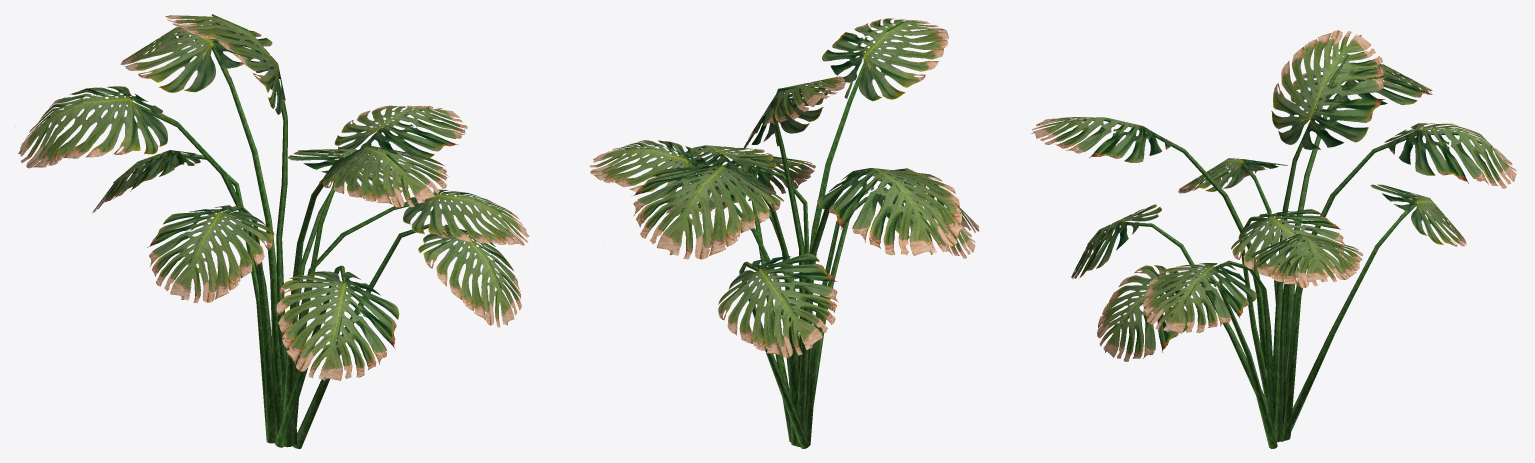
File: fan plant version 2.dae
3 views of the same model, side by side, from view 1: azimuth 30°, elevation 25°; view 2: azimuth 150°, elevation 25°; view 3: azimuth 270°, elevation 25° (orthographic). The views are drawn at different scales.
Visible parts, largest first — view 1: fan_plant_2_Form1, fan_plant_2_Group2_Group2_Form1, fan_plant_2_Shape0, fan_plant_2_Group2_Form1, fan_plant_2_Group2_Group2_Shape0, fan_plant_2_Group2_Shape0; view 2: fan_plant_2_Form1, fan_plant_2_Group2_Group2_Form1, fan_plant_2_Shape0, fan_plant_2_Group2_Group2_Shape0, fan_plant_2_Group2_Shape0, fan_plant_2_Group2_Form1; view 3: fan_plant_2_Form1, fan_plant_2_Group2_Group2_Form1, fan_plant_2_Shape0, fan_plant_2_Group2_Group2_Shape0, fan_plant_2_Group2_Form1.
Part boxes in pixels (box(x1,y1,x2,y2)): fan_plant_2_Form1: box(15, 15, 529, 245); fan_plant_2_Group2_Group2_Form1: box(92, 148, 521, 381); fan_plant_2_Shape0: box(47, 14, 500, 447); fan_plant_2_Group2_Form1: box(147, 205, 274, 303); fan_plant_2_Group2_Group2_Shape0: box(113, 149, 501, 448); fan_plant_2_Group2_Shape0: box(189, 205, 275, 443); fan_plant_2_Form1: box(590, 18, 961, 259); fan_plant_2_Group2_Group2_Form1: box(666, 153, 979, 357); fan_plant_2_Shape0: box(626, 21, 914, 447); fan_plant_2_Group2_Group2_Shape0: box(739, 158, 939, 448); fan_plant_2_Group2_Shape0: box(804, 197, 933, 446); fan_plant_2_Group2_Form1: box(867, 186, 975, 258); fan_plant_2_Form1: box(1031, 30, 1516, 333); fan_plant_2_Group2_Group2_Form1: box(1071, 184, 1466, 361); fan_plant_2_Shape0: box(1071, 54, 1491, 442); fan_plant_2_Group2_Group2_Shape0: box(1087, 200, 1435, 448); fan_plant_2_Group2_Form1: box(1178, 158, 1287, 193).
Size of the model in its own units: 89.97 by 81.8 by 94.9.
2 materials, 2 textured.
